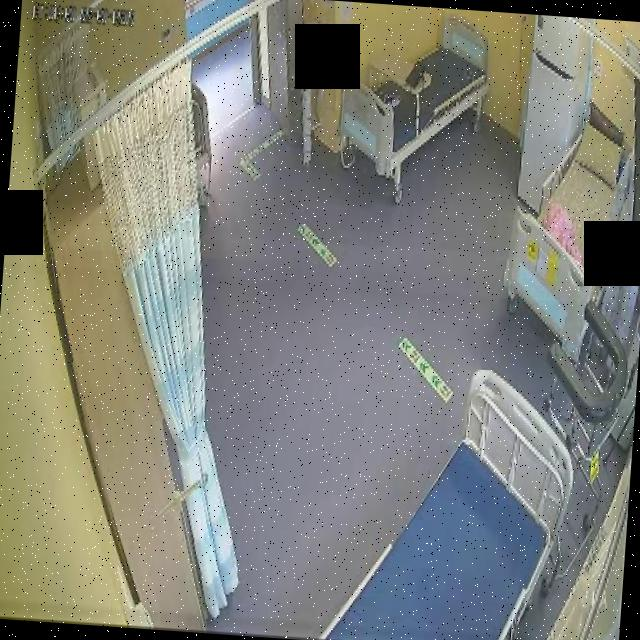bed: (324, 357, 583, 640), (500, 114, 640, 347), (334, 9, 491, 182)
patient: (596, 140, 640, 342)
